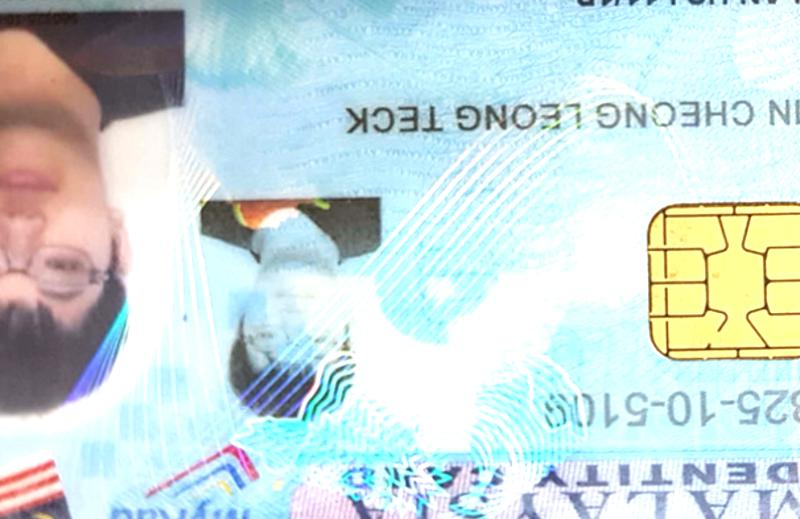hologram: (381, 133, 561, 323)
